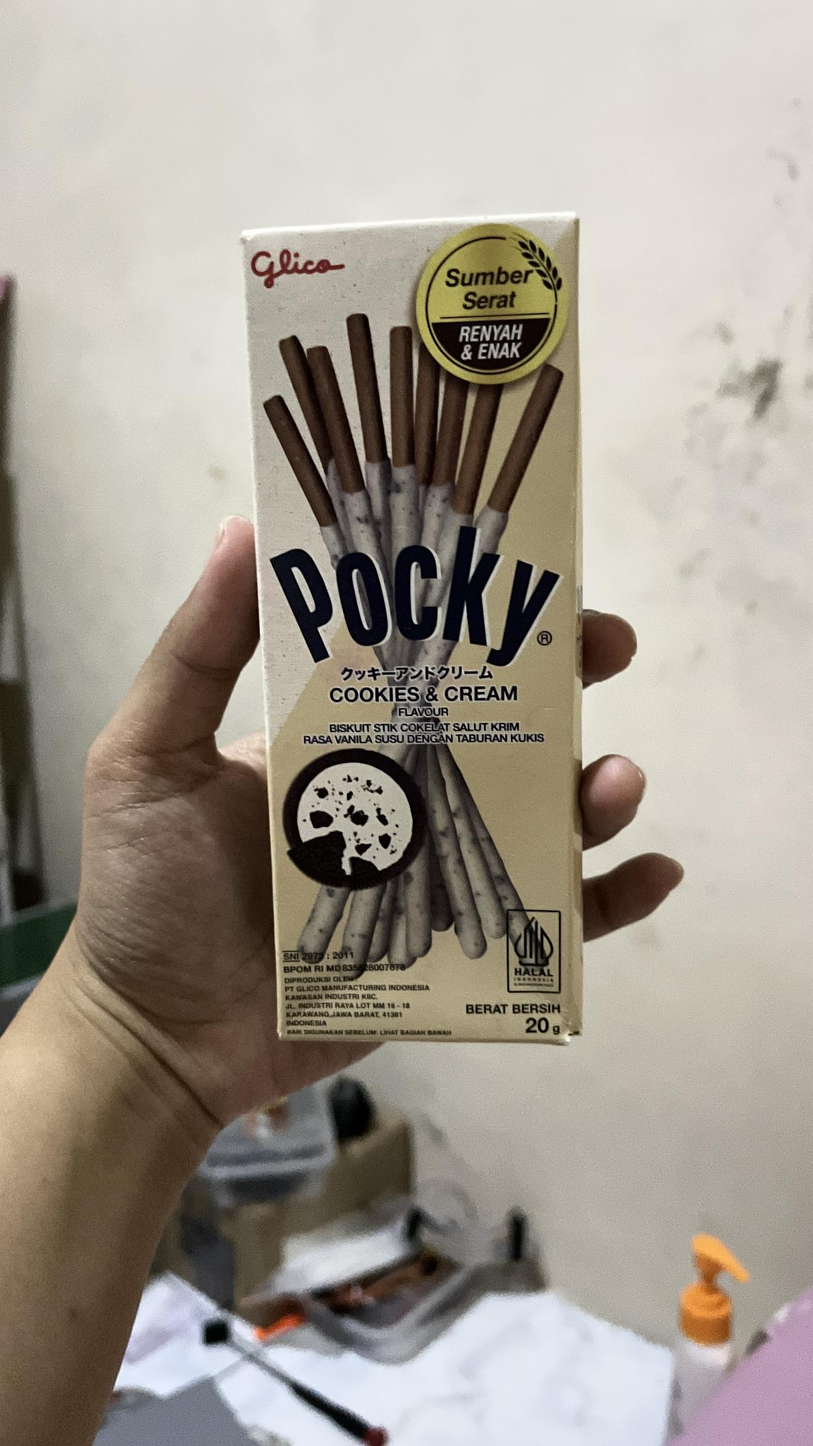Kertas: (251, 230, 577, 1036)
